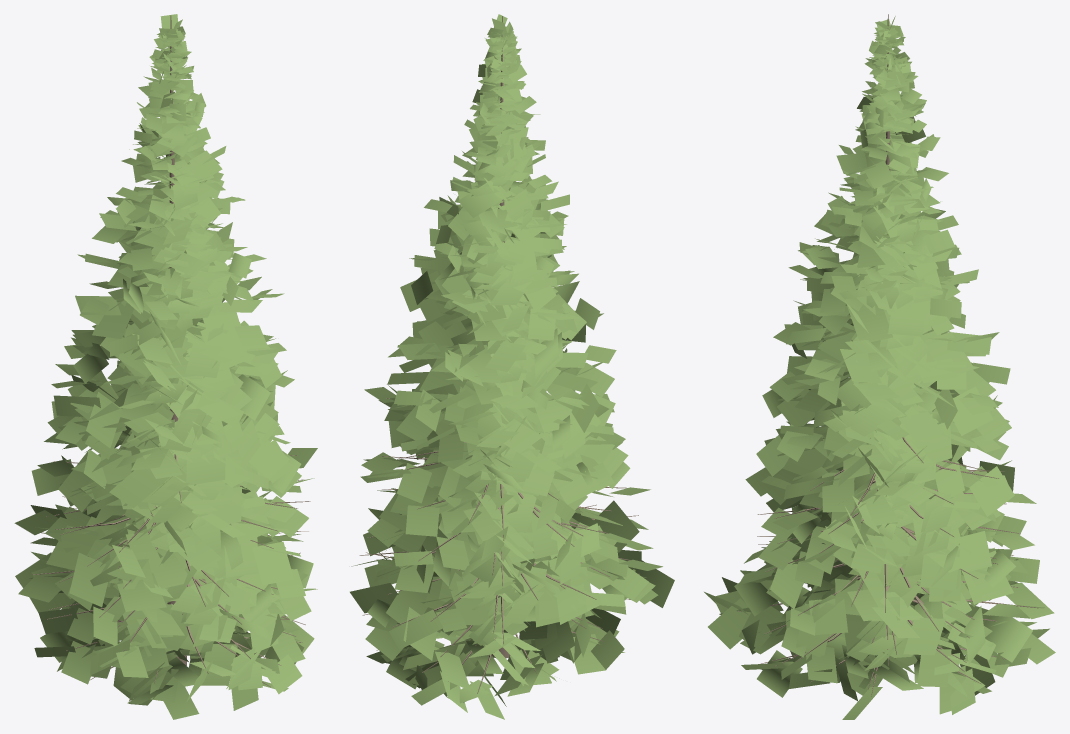
Rendered from Conifer_2_lod1.glb.
The picture shows the model from 3 angles, left to right: view 1: azimuth 30°, elevation 25°; view 2: azimuth 150°, elevation 25°; view 3: azimuth 270°, elevation 25°; orthographic projection.
Visible parts, largest first — view 1: Conifer_2_lod1; view 2: Conifer_2_lod1; view 3: Conifer_2_lod1.
Part boxes in pixels (x1,y1,x2,y2): Conifer_2_lod1: (14, 14, 317, 719); Conifer_2_lod1: (350, 14, 674, 719); Conifer_2_lod1: (704, 14, 1055, 719).
Size of the model in its own units: 6.24 by 14.31 by 6.91.
